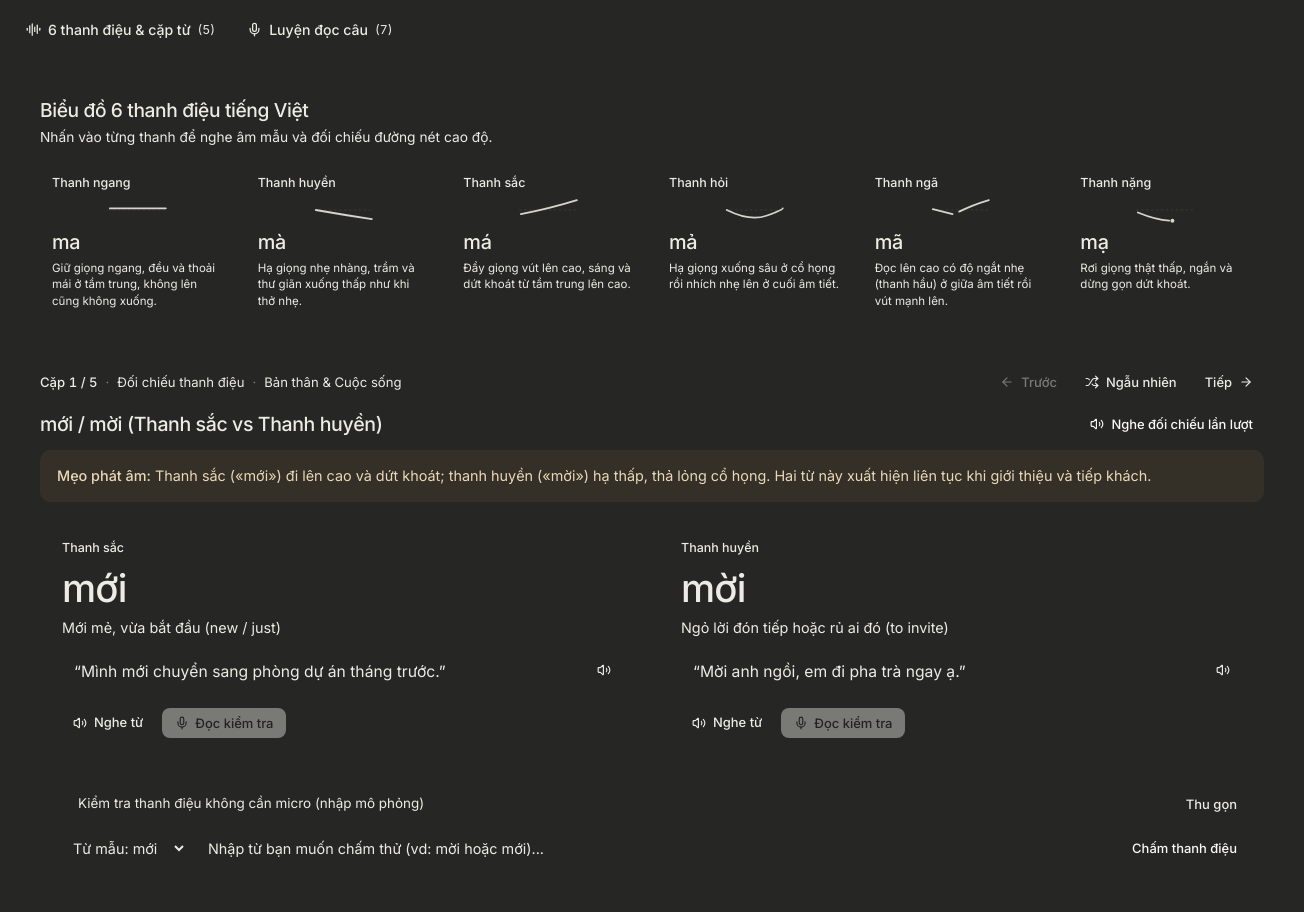
Test: PronunciationLab › renders 6-tone contour legend, switches to Sentence Shadowing, scores tone errors via fallback, and saves session
Expected: the heading "Biểu đồ 6 thanh điệu tiếng Việt" is shown, [40, 98, 308, 122]
Click the button with test id "pronunciation-tab-shadowing" at (320, 31), box [233, 12, 407, 50]
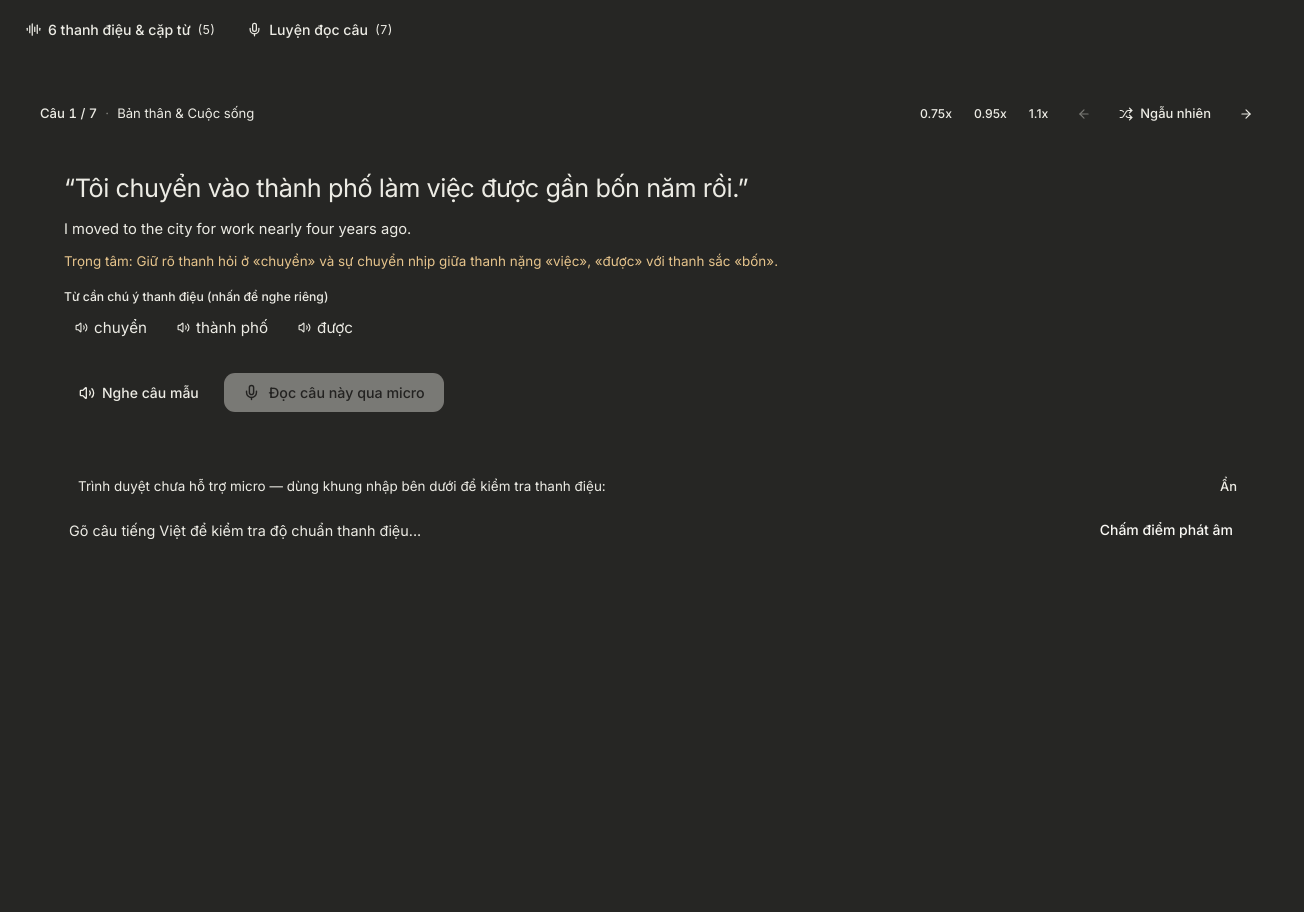
Result: the element with test id "pronunciation-shadowing-view" is shown at [12, 72, 1292, 588]
// Submit simulated Vietnamese sentence through fallback input
Type "Tôi chuyển vào thành phố làm việc được gần bốn năm rồi." into the field with test id "shadowing-fallback-input" at (566, 530), box [56, 512, 1077, 548]
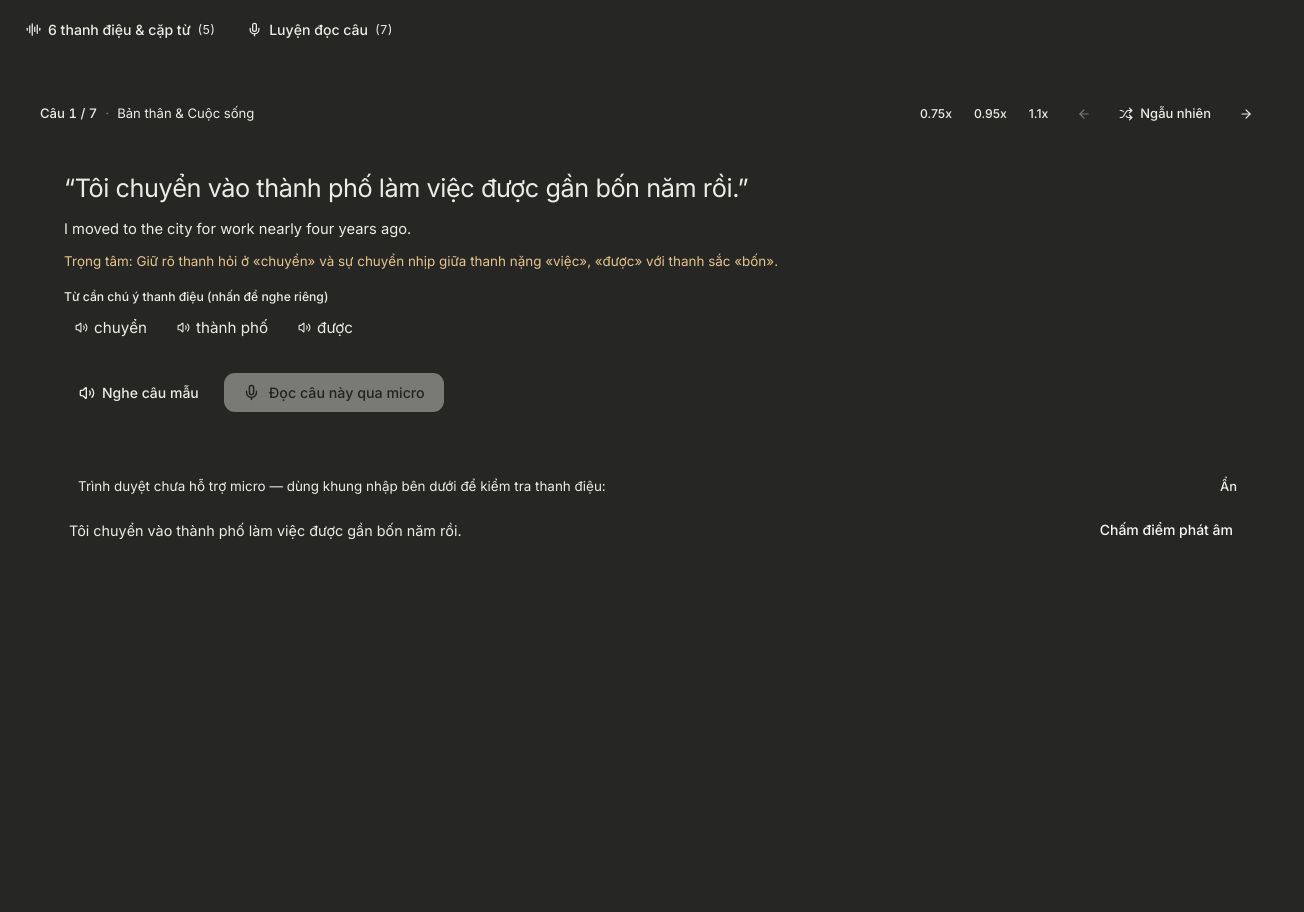
Click the button with test id "shadowing-fallback-submit" at (1166, 530), box [1085, 512, 1248, 548]
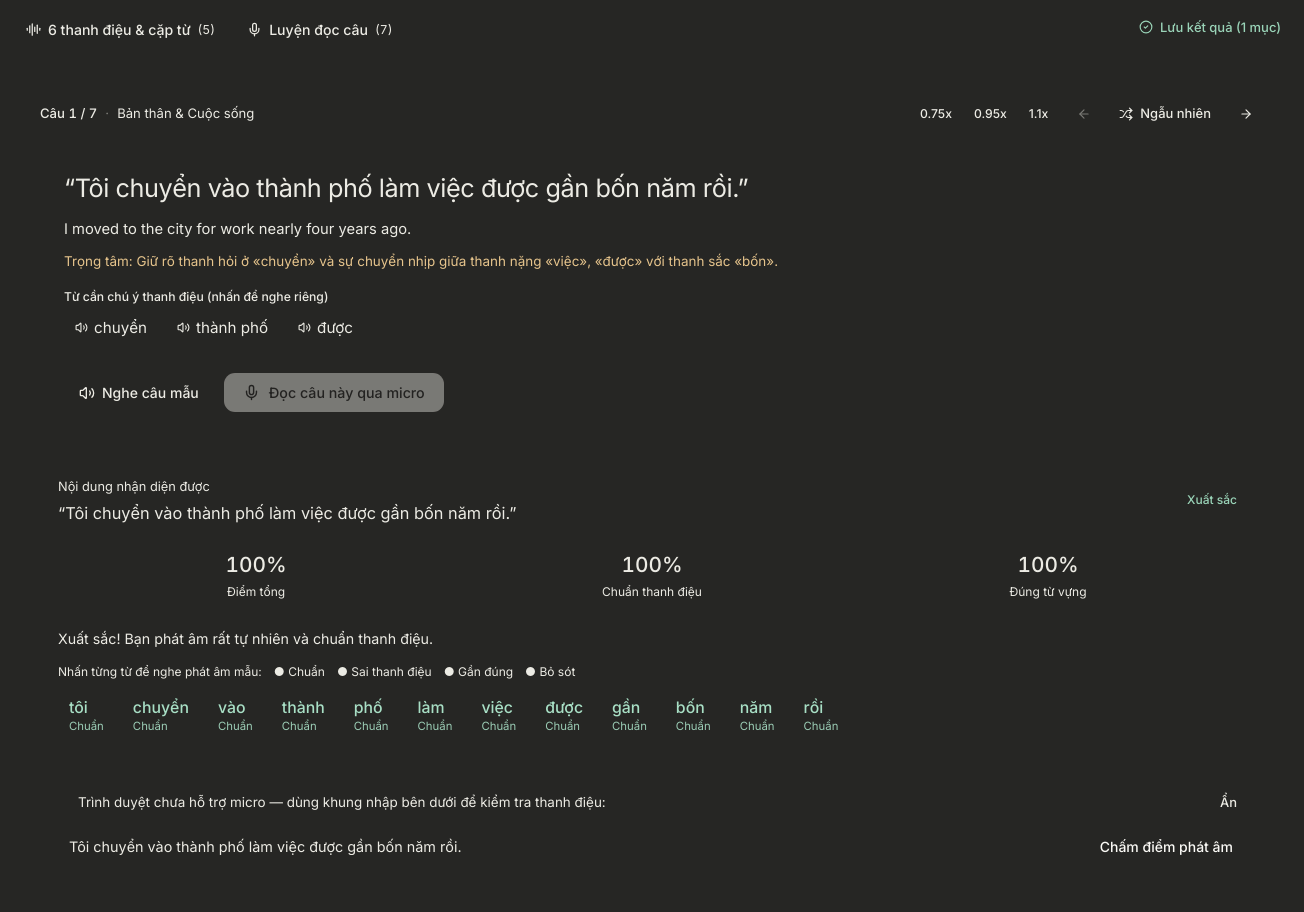
Result: the element with test id "shadowing-evaluation" is shown at [40, 458, 1264, 756]
Result: the element with test id "pronunciation-word-diffs" is shown at [58, 691, 849, 740]
// Save session summary
Click the button with test id "pronunciation-finish-btn" at (1210, 27), box [1128, 13, 1292, 41]
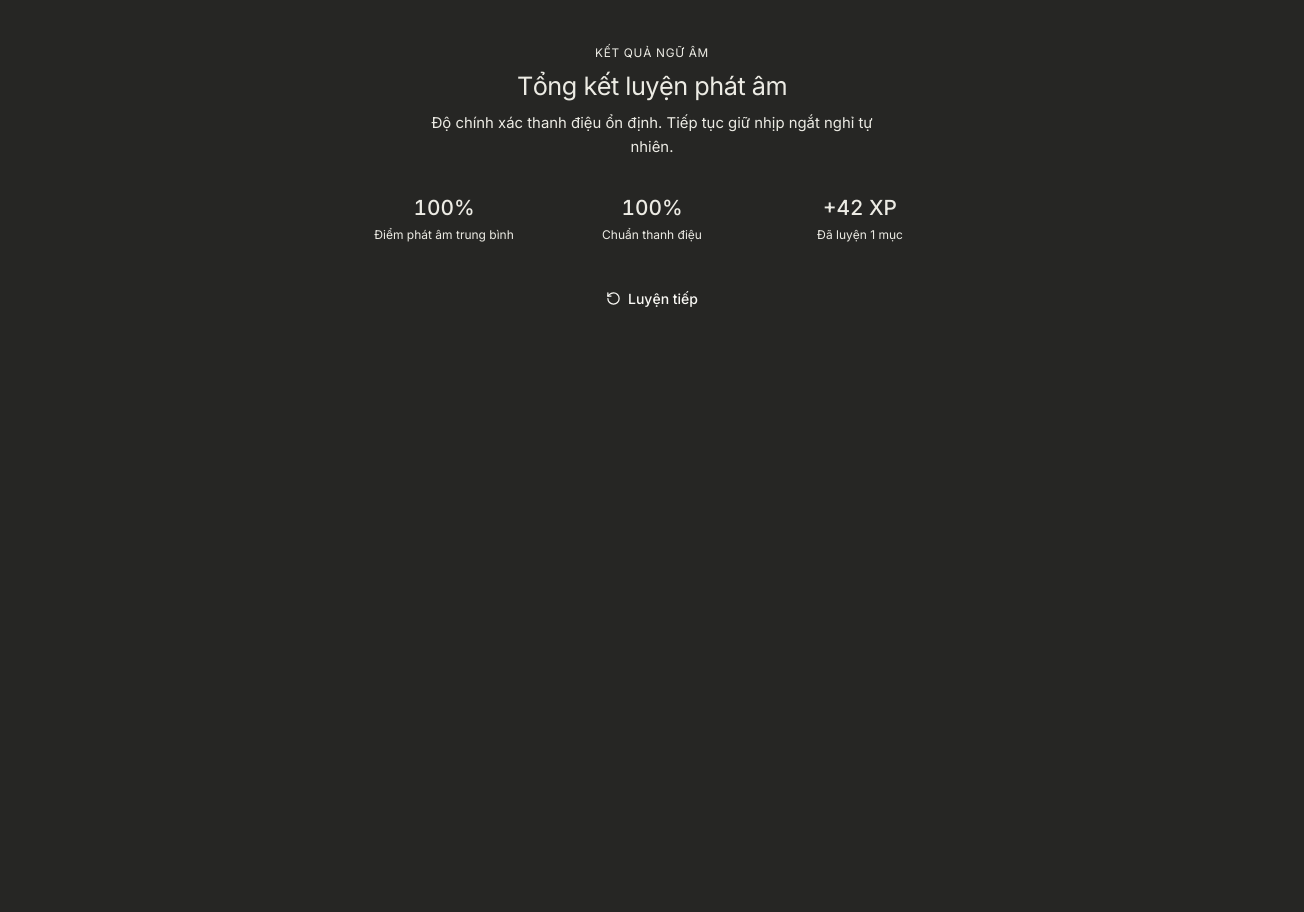
Result: the element with test id "pronunciation-summary" is shown at [374, 46, 903, 316]
